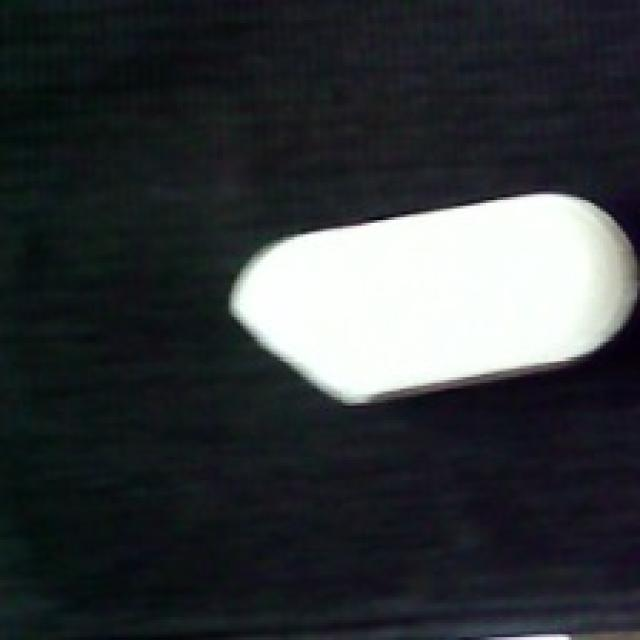defected: (225, 186, 640, 411)
